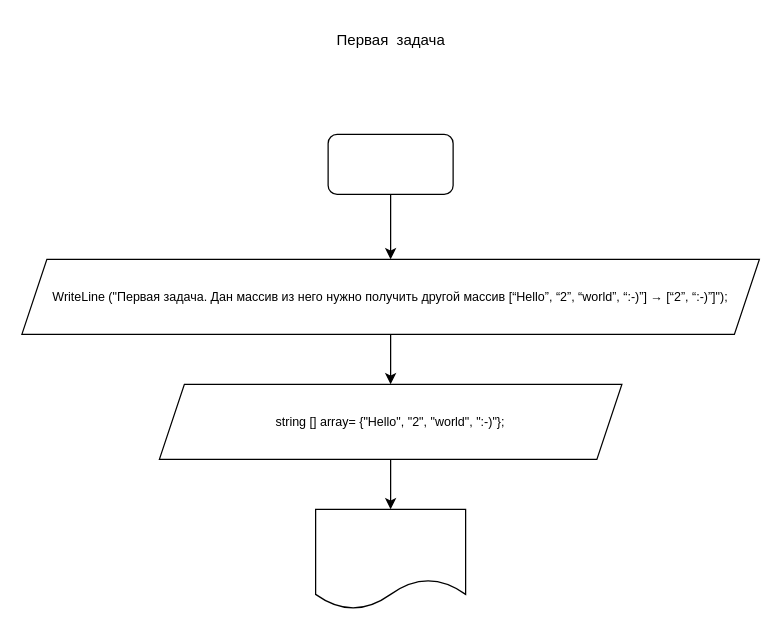
This 781x631 diagram has some shape labels left out. The centre of each missing label's shape, as x and y in pixels:
Start: point 390,163
WriteLine($"[ “{array[1]}”, “{array[3]}” ]");: point 390,558
